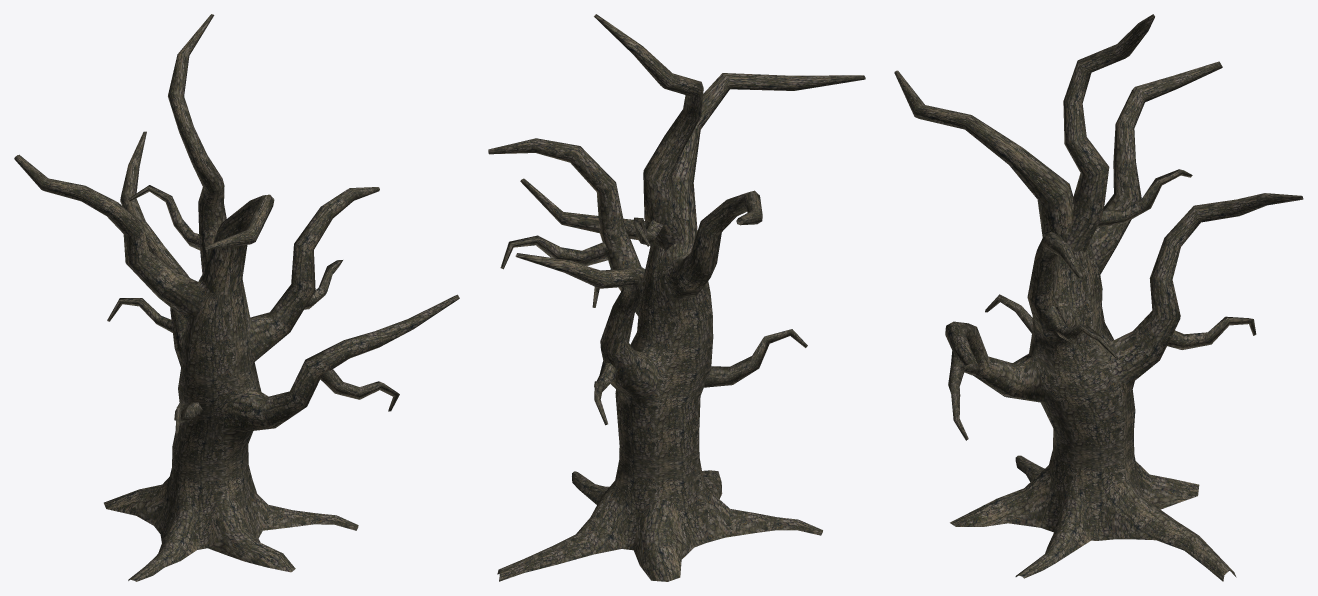
Rendered from EKH_ENTRANCE_PS_EN_BIG_OAK_003.fbx.
3 views of the same model, side by side, from view 1: azimuth 30°, elevation 25°; view 2: azimuth 150°, elevation 25°; view 3: azimuth 270°, elevation 25° (orthographic). The views are drawn at different scales.
Visible parts, largest first — view 1: EKH_ENTRANCE_PS_EN_BIG_OAK_003; view 2: EKH_ENTRANCE_PS_EN_BIG_OAK_003; view 3: EKH_ENTRANCE_PS_EN_BIG_OAK_003.
Part boxes in pixels (<box>): EKH_ENTRANCE_PS_EN_BIG_OAK_003: <box>14,14,459,581</box>; EKH_ENTRANCE_PS_EN_BIG_OAK_003: <box>488,14,865,581</box>; EKH_ENTRANCE_PS_EN_BIG_OAK_003: <box>894,14,1303,581</box>.
Size of the model in its own units: 210412 by 312190 by 215420.
Materials: 3 (3 with a texture image).
